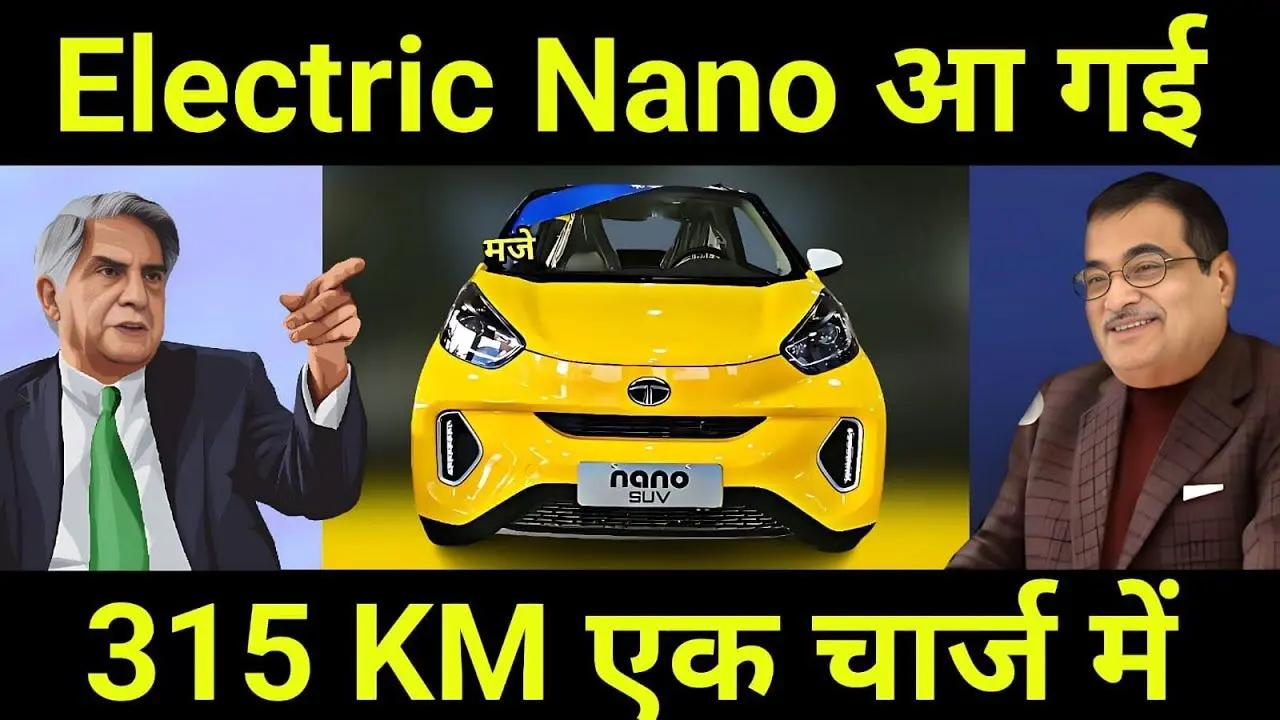Nano: (411, 179, 888, 560)
